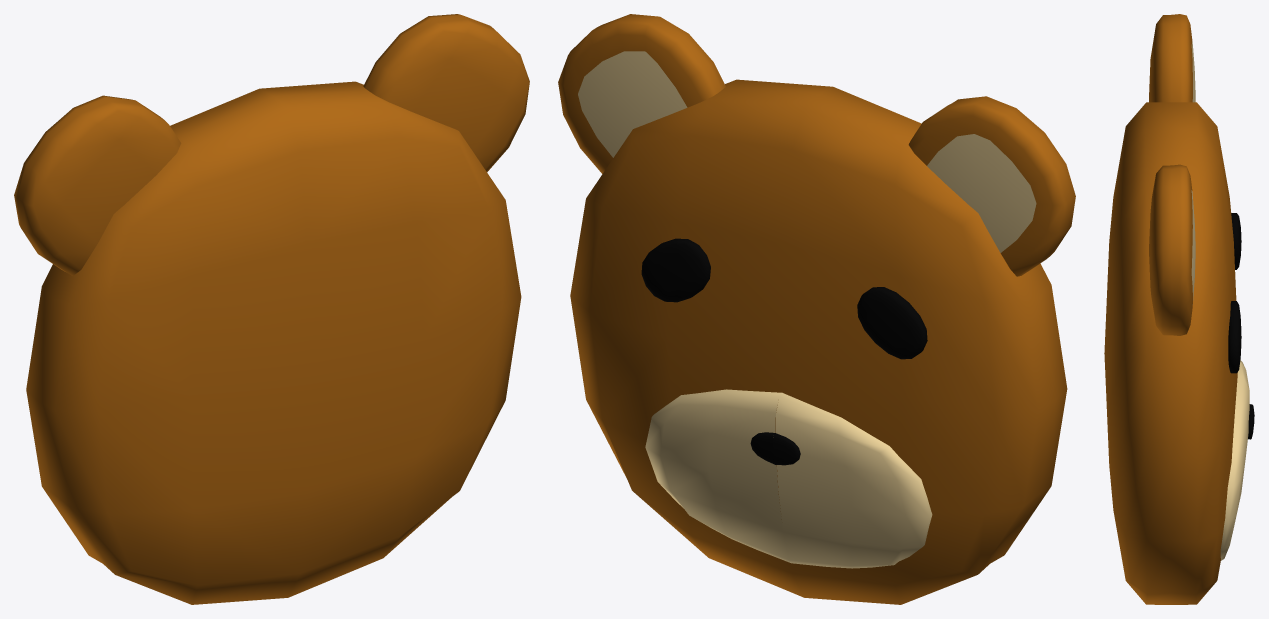
File: Bear_Badge.fbx
The picture shows the model from 3 angles, left to right: view 1: azimuth 30°, elevation 25°; view 2: azimuth 150°, elevation 25°; view 3: azimuth 270°, elevation 25°; orthographic projection. The views are drawn at different scales.
Parts seen in each view (by area): view 1: 큐브; view 2: 큐브; view 3: 큐브.
Boxes of the visible parts, box(x1,y1,x2,y2) form: 큐브: box(14, 14, 529, 604); 큐브: box(558, 14, 1075, 604); 큐브: box(1104, 14, 1254, 604).
Bounding box in the file's own units: 23.75 × 23.78 × 6.69.
